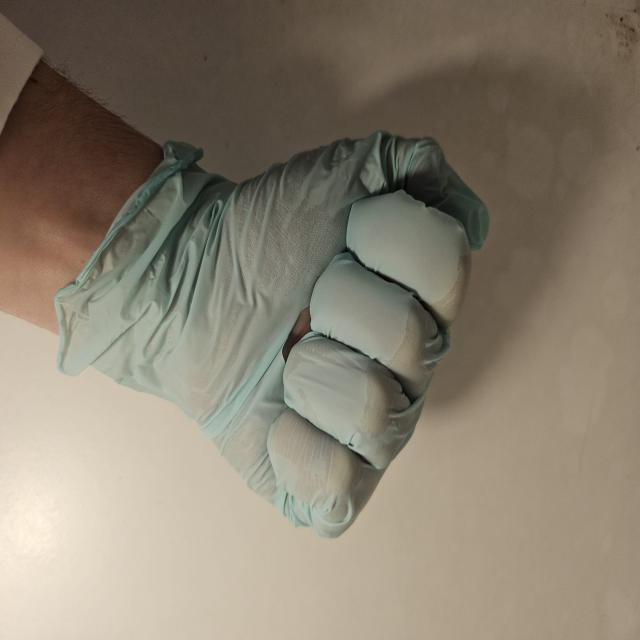gloves_damaged: (63, 126, 491, 539)
